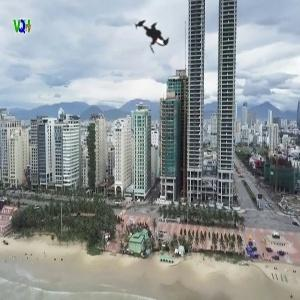drone: (121, 7, 181, 67)
